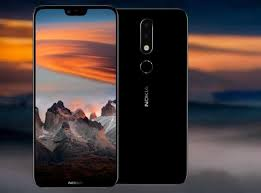nokia: (34, 3, 119, 190), (122, 8, 185, 185)
